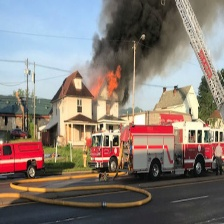fire: (89, 67, 123, 99)
smoke: (88, 1, 222, 70)
